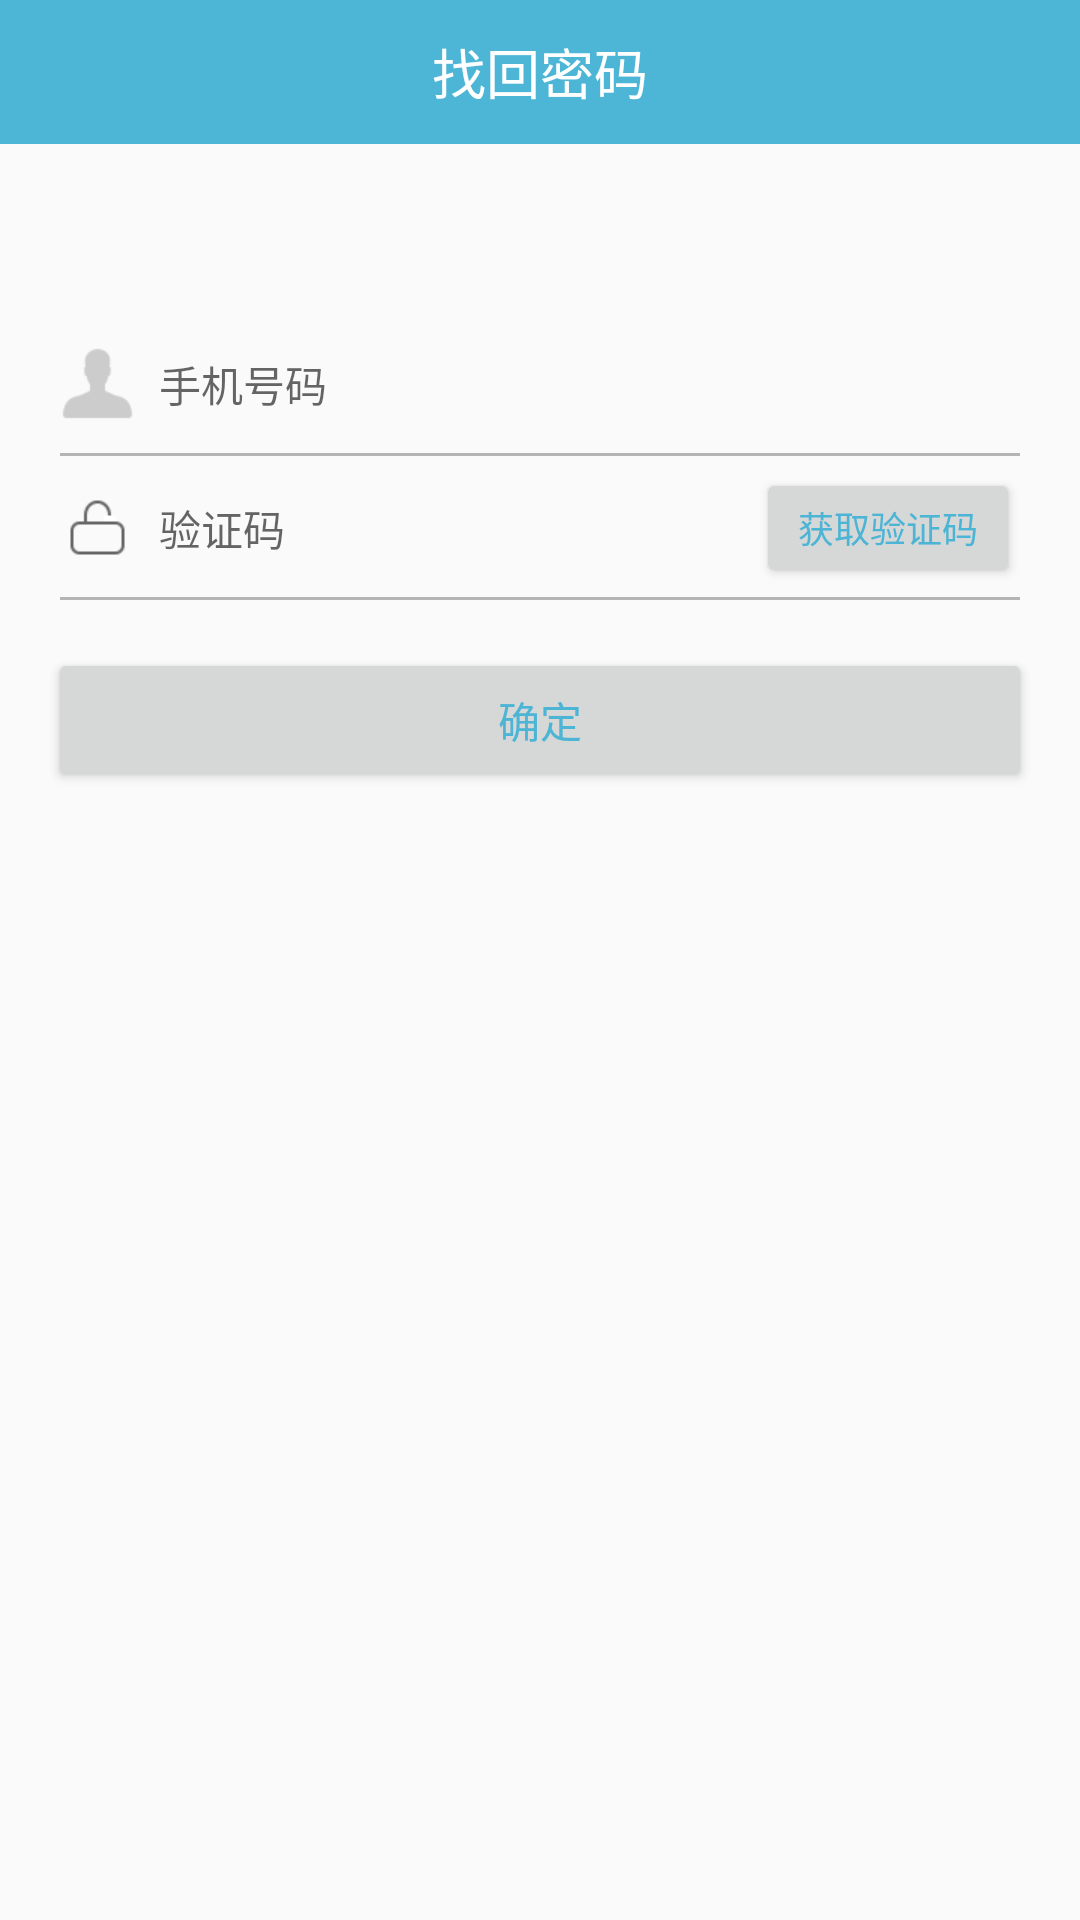

Screen size 1080 x 1920. Icon name, then its center in pixels as point (x, y):
register password: point (97, 527)
register username: point (97, 383)
